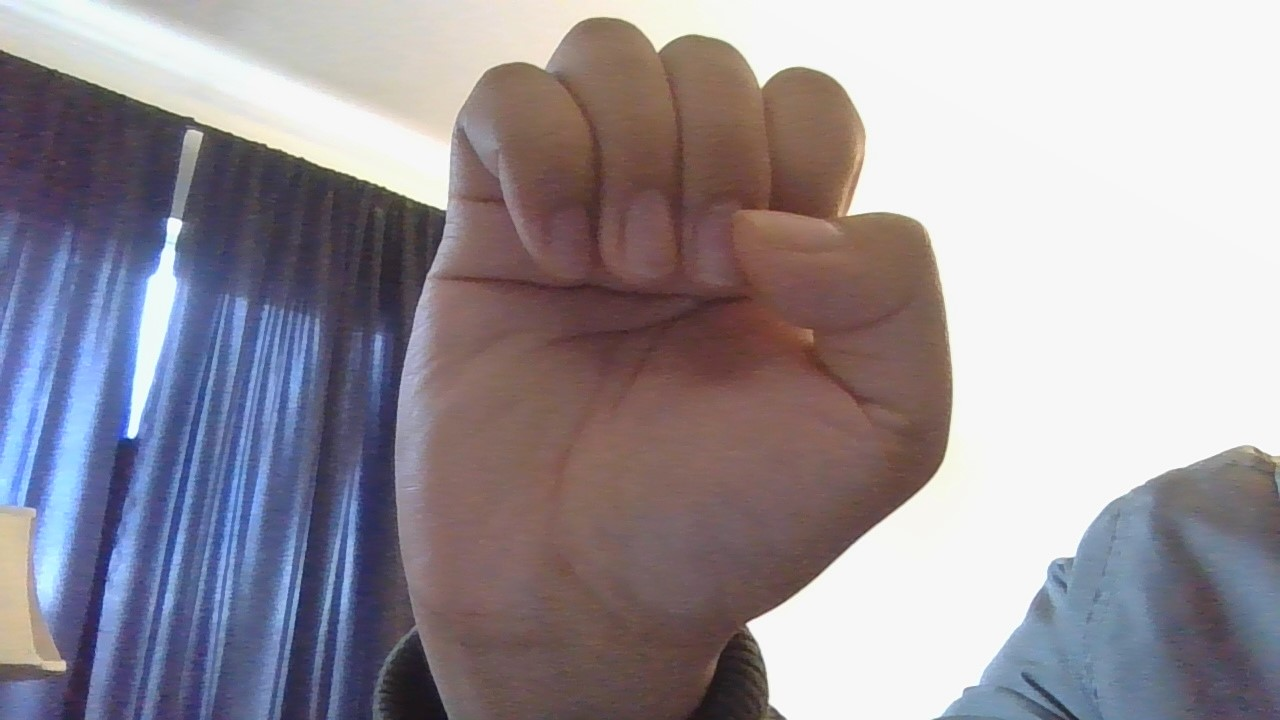e: (327, 4, 974, 692)
